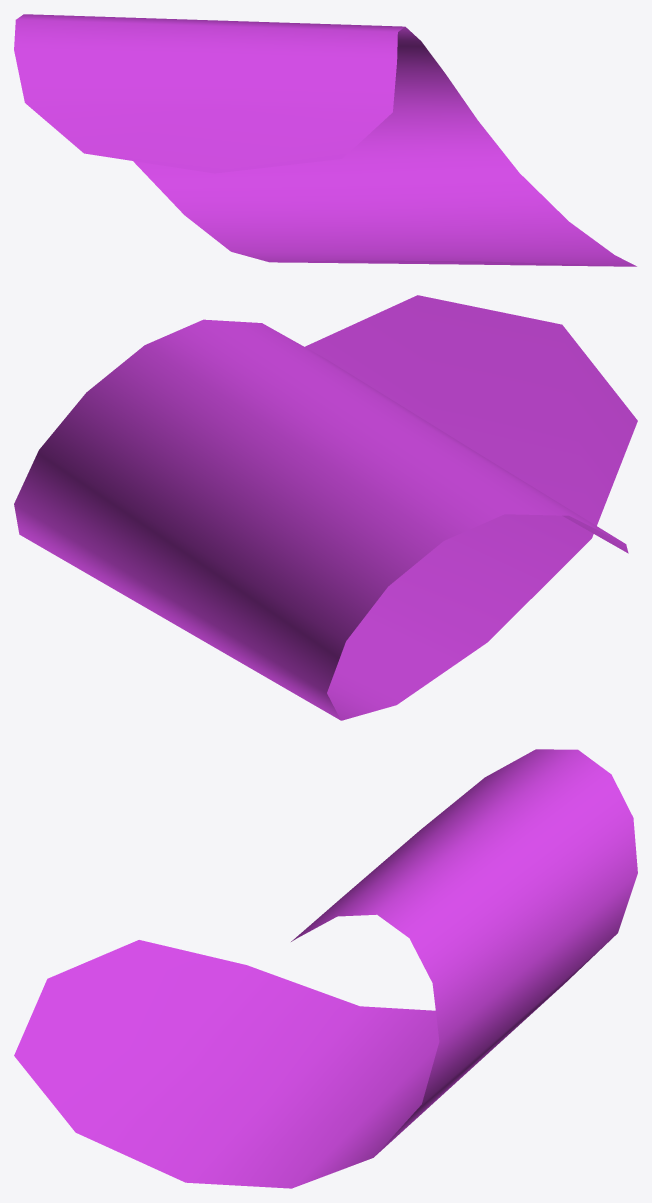
Rendered from Confetti.004.fbx.
The picture shows the model from 3 angles, top to bottom: view 1: azimuth 30°, elevation 25°; view 2: azimuth 150°, elevation 25°; view 3: azimuth 270°, elevation 25°; orthographic projection. The views are drawn at different scales.
Parts seen in each view (by area): view 1: Confetti.004; view 2: Confetti.004; view 3: Confetti.004.
Part boxes in pixels (x1,y1,x2,y2): Confetti.004: (14, 14, 636, 266); Confetti.004: (14, 295, 637, 720); Confetti.004: (14, 749, 637, 1188).
Size of the model in its own units: 1.08 by 0.4703 by 1.21.
